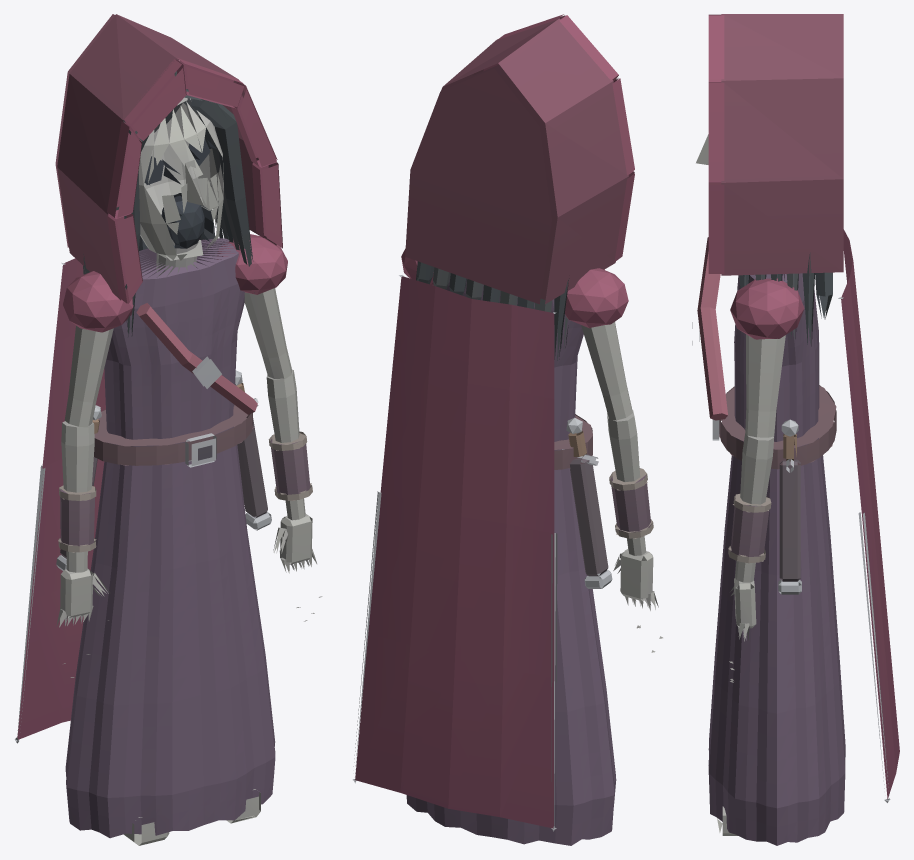
File: SlendrinaAssassin.glb
3 views of the same model, side by side, from view 1: azimuth 30°, elevation 25°; view 2: azimuth 150°, elevation 25°; view 3: azimuth 270°, elevation 25° (orthographic).
Visible parts, largest first — view 1: Body, Head, ArmR, ArmL; view 2: Body, Head, ArmR; view 3: Body, Head, ArmL.
Part boxes in pixels (bbox=[...]): Body: bbox=[14, 225, 275, 838]; Head: bbox=[55, 14, 282, 336]; ArmR: bbox=[56, 271, 133, 677]; ArmL: bbox=[216, 234, 322, 621]; Body: bbox=[352, 269, 616, 845]; Head: bbox=[405, 14, 634, 360]; ArmR: bbox=[565, 268, 662, 652]; Body: bbox=[692, 229, 899, 845]; Head: bbox=[696, 14, 843, 346]; ArmL: bbox=[728, 278, 804, 682].
Size of the model in its own units: 2.44 by 6.98 by 1.68.
